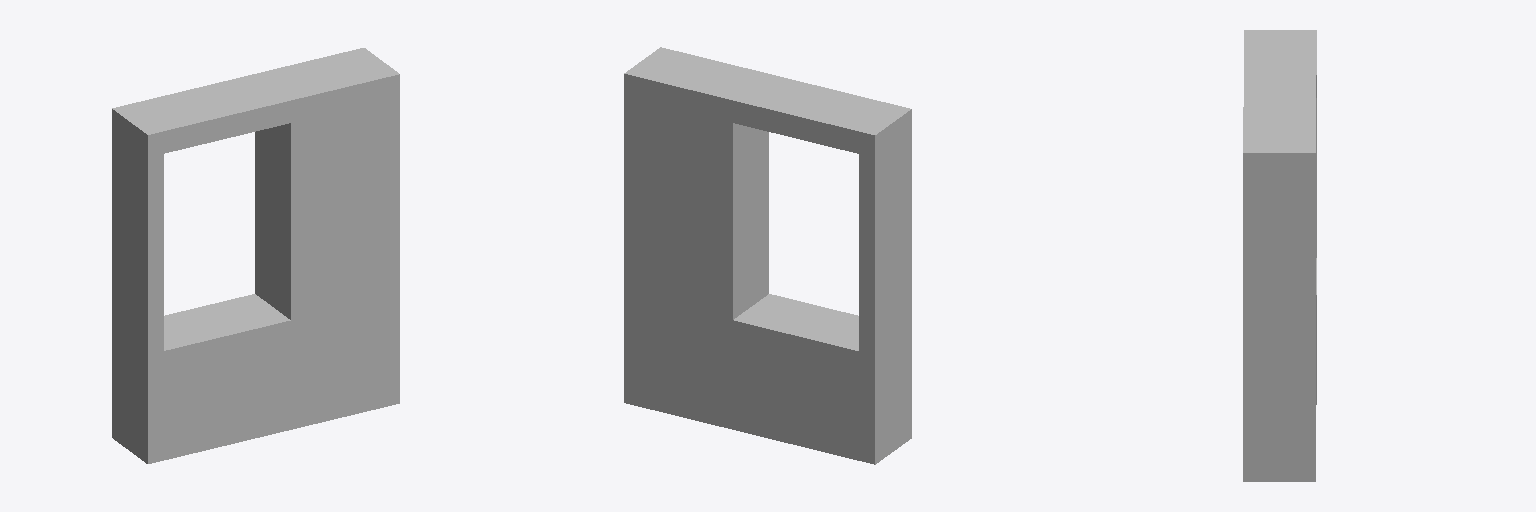
The model's file is Muur met Raam Links.obj.
The picture shows the model from 3 angles: view 1: azimuth 30°, elevation 25°; view 2: azimuth 150°, elevation 25°; view 3: azimuth 270°, elevation 25°; orthographic projection.
Parts seen in each view (by area): view 1: Muur_met_raam_Links; view 2: Muur_met_raam_Links; view 3: Muur_met_raam_Links.
Boxes of the visible parts, box(x1,y1,x2,y2) form: Muur_met_raam_Links: box(112, 48, 399, 463); Muur_met_raam_Links: box(624, 47, 911, 464); Muur_met_raam_Links: box(1243, 30, 1316, 481).
Bounding box in the file's own units: 78.82 × 98.43 × 20.02.